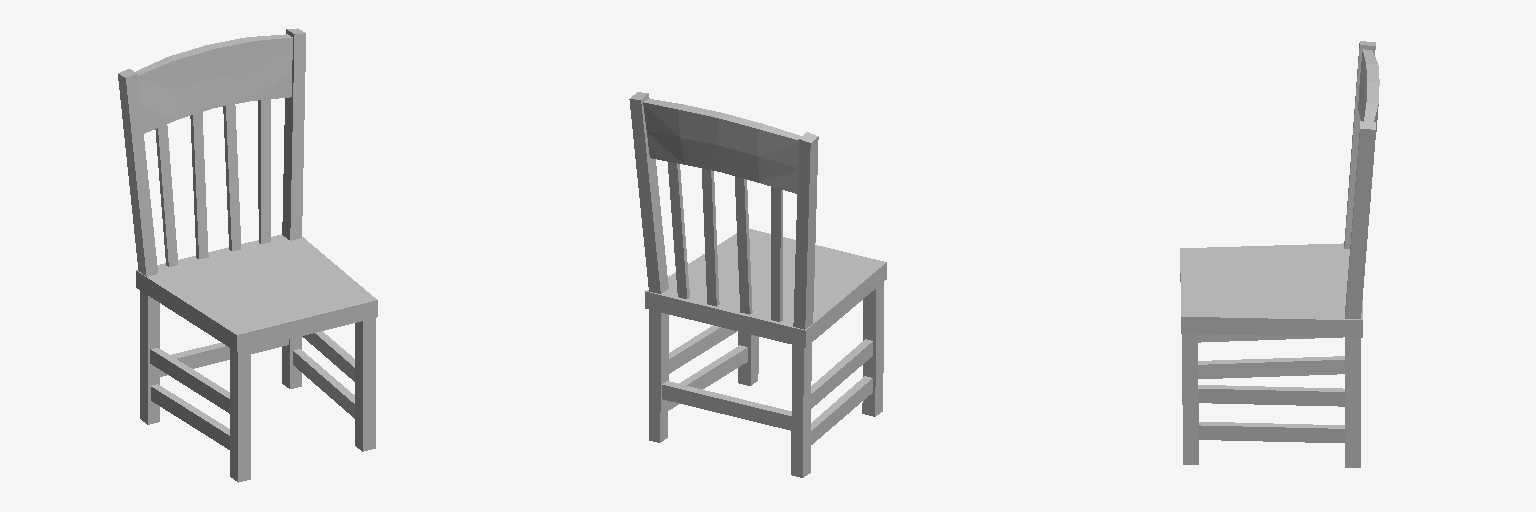
Rendered from chair.obj.
3 views of the same model, side by side, from view 1: azimuth 30°, elevation 25°; view 2: azimuth 150°, elevation 25°; view 3: azimuth 270°, elevation 25° (orthographic).
Bounding box in the file's own units: 1.24 × 2.28 × 1.18.